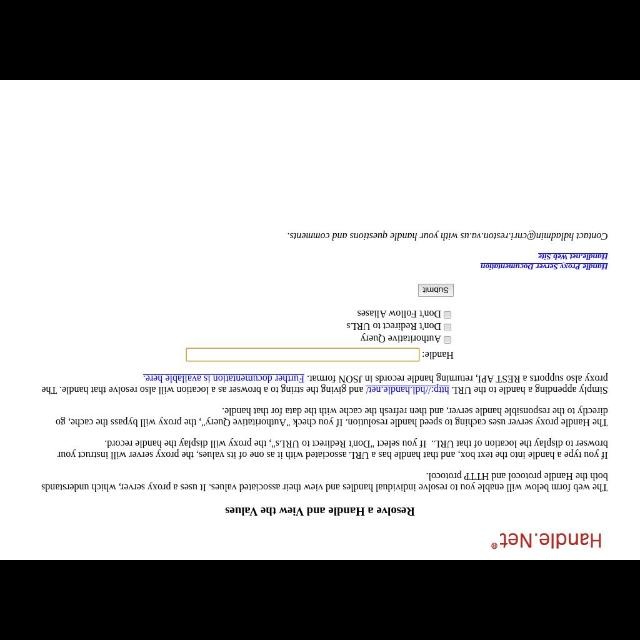checkbox: (444, 311, 452, 319), (444, 336, 450, 344), (445, 324, 451, 332)
input: (187, 349, 419, 361)
link: (142, 374, 304, 384), (480, 262, 608, 272), (364, 386, 450, 396), (536, 252, 608, 260)
text: (40, 469, 608, 493), (40, 374, 608, 396), (57, 438, 608, 460), (55, 407, 608, 428), (286, 230, 608, 240), (491, 530, 602, 552), (224, 504, 416, 516), (346, 322, 442, 332), (356, 308, 440, 318), (360, 336, 440, 342), (422, 350, 454, 360), (423, 284, 449, 294)
textbutton: (418, 282, 454, 296)
